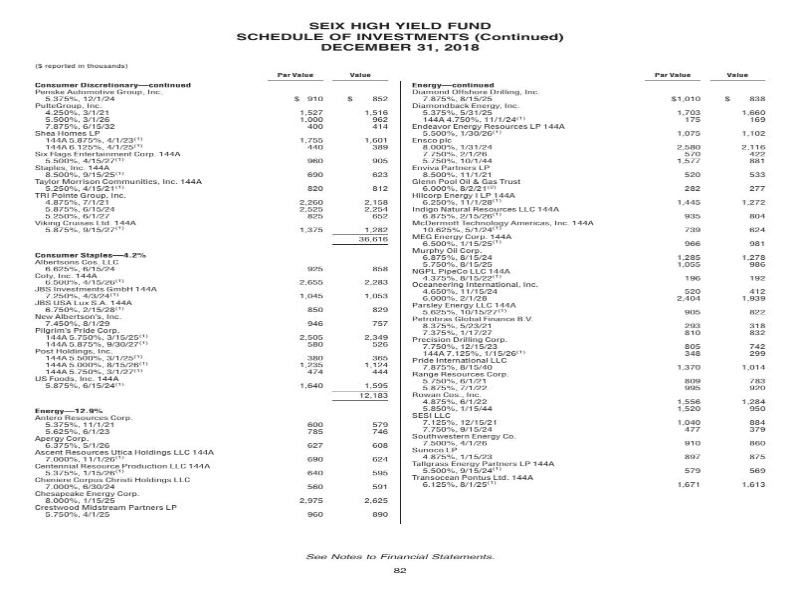table: (25, 58, 408, 541), (393, 67, 785, 530)
